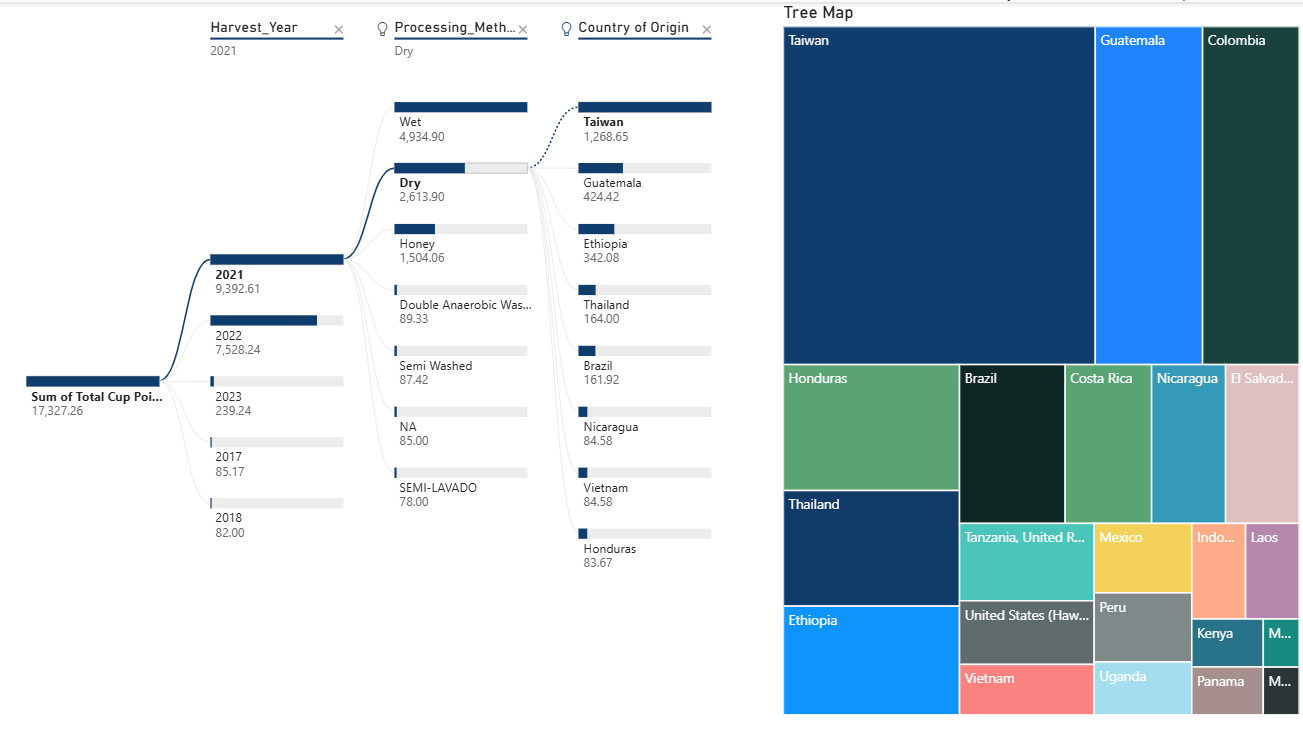

Layout of this report page (visuals, bound fields, positions):
{"tool":"powerbi","page":{"name":"Funnel Chart &Tree Map","canvas":[1280,720],"ordinal":3},"visuals":[{"type":"decompositionTreeVisual","fields":{"Analyze":["Sum(df_arabica_clean.Total Cup Points)"],"ExplainBy":["df_arabica_clean.Harvest_Year","df_arabica_clean.Processing_Method","df_arabica_clean.Country of Origin"]},"box":[0,0,830.2,720.4],"z":0},{"type":"treemap","title":"Tree Map","fields":{"Group":["df_arabica_clean.Country of Origin"],"Values":["Sum(df_arabica_clean.Total Cup Points)"]},"box":[765.7,0,514.6,702.6],"z":1000}]}

Visuals, with their boxes in screenshot pixels (x1, y1, x2, y2), scaled from the page's 1280x720 canvas onto the 1303x729 screenshot:
decompositionTreeVisual - Sum(df_arabica_clean.Total Cup Points) x df_arabica_clean.Harvest_Year: {"x1": 0, "y1": 0, "x2": 845, "y2": 728}
"Tree Map" treemap: {"x1": 779, "y1": 0, "x2": 1302, "y2": 711}
